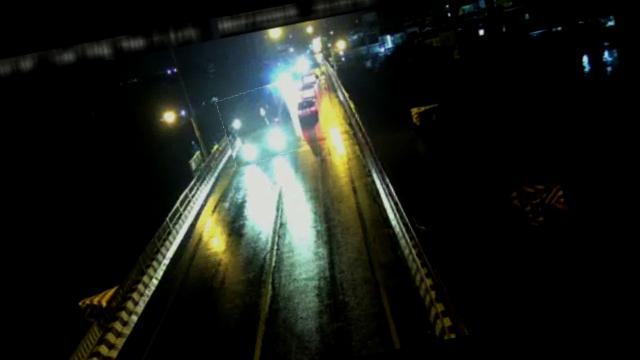Truck: (217, 81, 304, 168)
